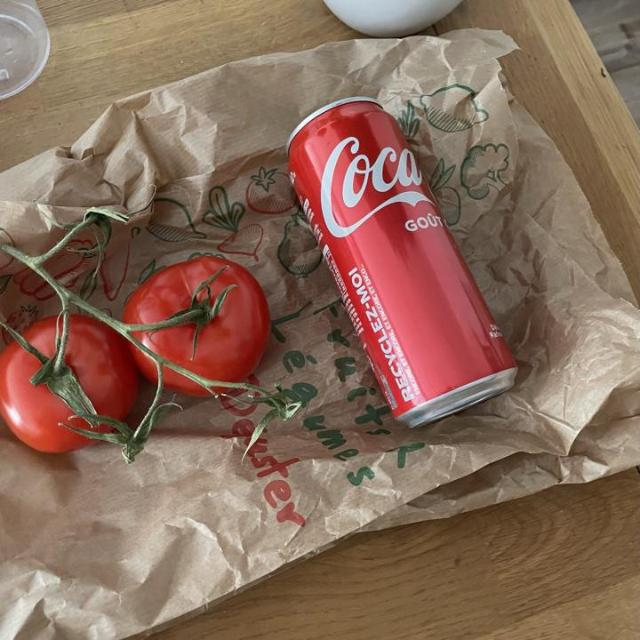can: (282, 91, 518, 429)
